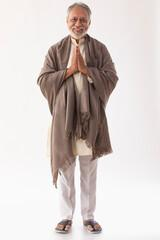Human: (36, 0, 130, 239)
